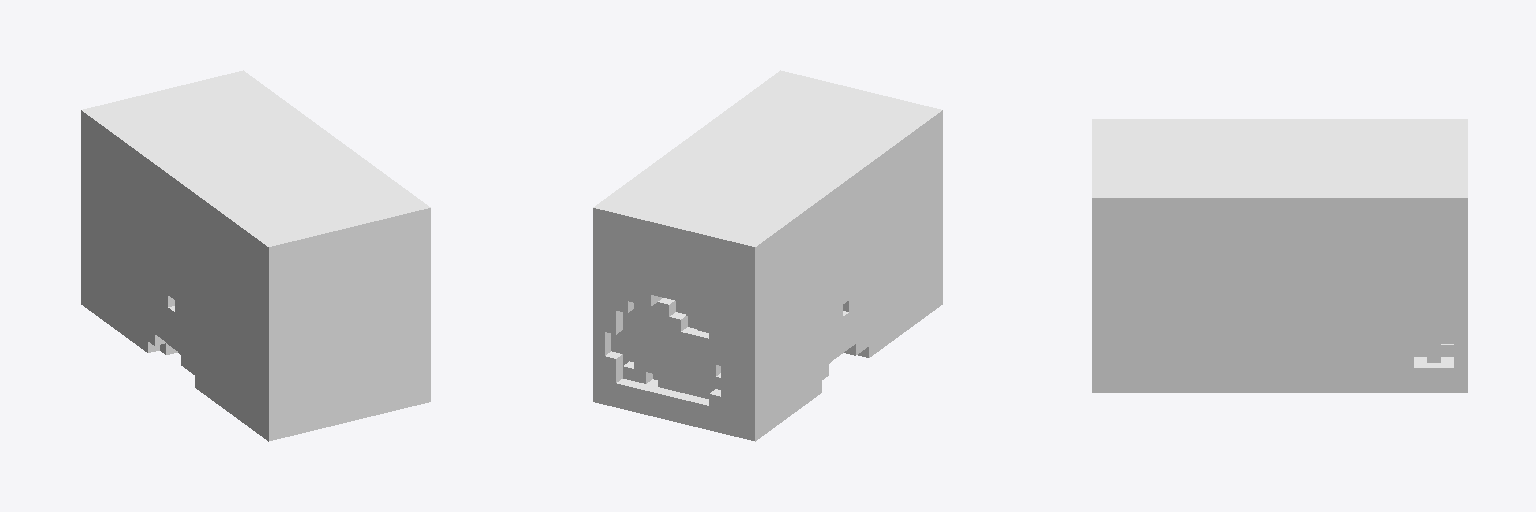
Rendered from mineways.obj.
The picture shows the model from 3 angles: view 1: azimuth 30°, elevation 25°; view 2: azimuth 150°, elevation 25°; view 3: azimuth 270°, elevation 25°; orthographic projection.
Parts seen in each view (by area): view 1: mine_rtx__351_14_-314_to_364_29_-287; view 2: mine_rtx__351_14_-314_to_364_29_-287; view 3: mine_rtx__351_14_-314_to_364_29_-287.
Part boxes in pixels (x1,y1,x2,y2): mine_rtx__351_14_-314_to_364_29_-287: (81,70,430,441); mine_rtx__351_14_-314_to_364_29_-287: (593,70,942,441); mine_rtx__351_14_-314_to_364_29_-287: (1092,119,1467,392).
Bounding box in the file's own units: 14 × 16 × 28.